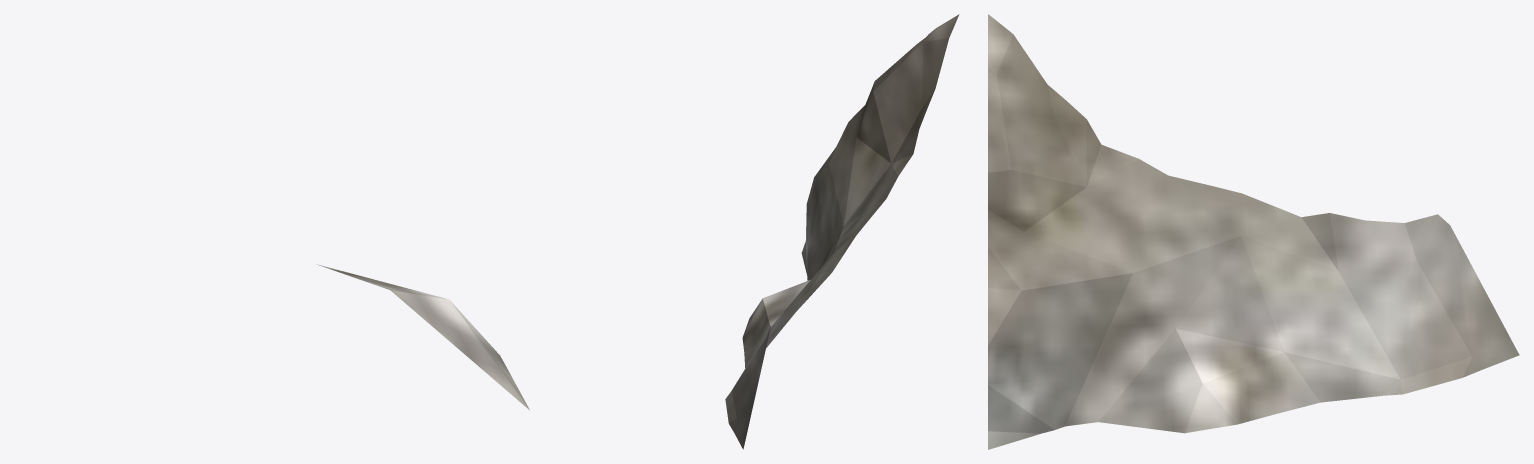
3 views of the same model, side by side, from view 1: azimuth 30°, elevation 25°; view 2: azimuth 150°, elevation 25°; view 3: azimuth 270°, elevation 25° (orthographic). The views are drawn at different scales.
Bounding box in the file's own units: 0.2901 × 0.4871 × 0.6879.
Materials: 1 (1 with a texture image).
